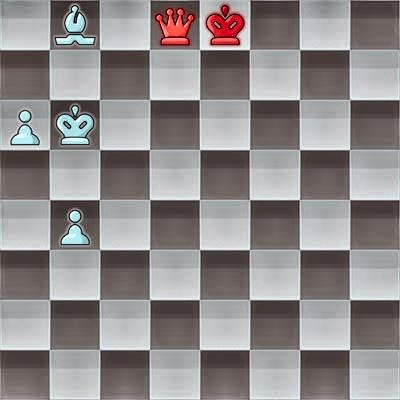black-king: (200, 0, 250, 50)
black-queen: (150, 0, 200, 50)
white-bishop: (50, 0, 100, 50)
white-king: (50, 100, 100, 150)
white-pawn: (0, 100, 50, 150), (50, 200, 100, 250)
